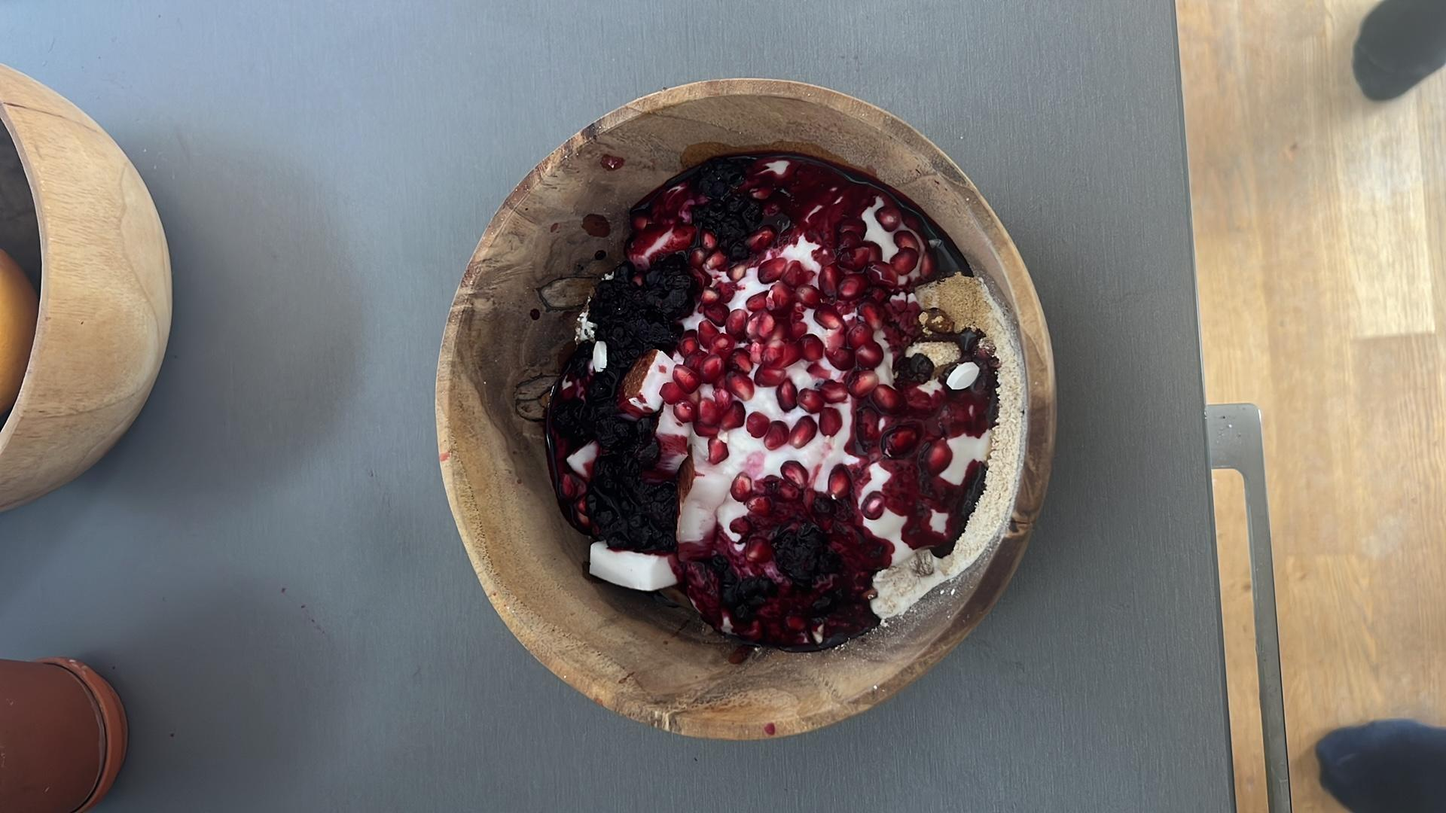blackberry: (591, 456, 687, 555), (596, 323, 683, 364), (642, 262, 695, 314), (589, 276, 645, 317)
